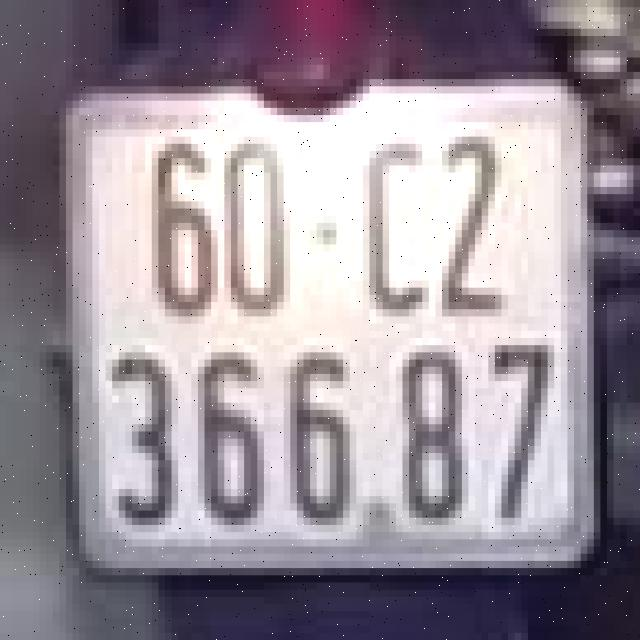0: (208, 122, 300, 331)
2: (438, 115, 524, 324)
3: (92, 345, 185, 532)
6: (178, 331, 271, 546), (138, 122, 224, 309), (284, 342, 363, 536)
7: (482, 331, 560, 532)
8: (379, 324, 478, 539)
C: (356, 119, 436, 312)
